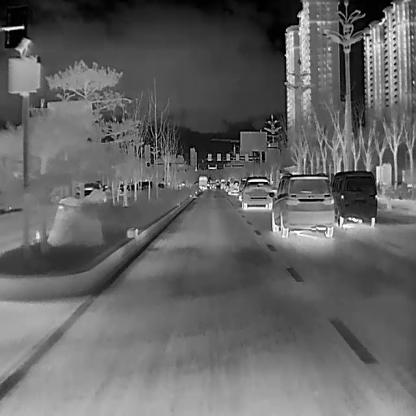bus: (198, 175, 206, 190)
car: (268, 172, 333, 237), (331, 169, 376, 225), (240, 176, 272, 208), (74, 179, 107, 205), (226, 176, 239, 193), (218, 177, 226, 192)
truck: (208, 178, 216, 188)
